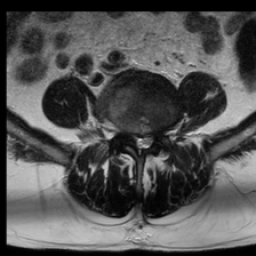CCS_severe_stenosis: (139, 131, 145, 153)
LFS_severe_stenosis: (153, 127, 161, 144)
LLS_stenosis: (147, 130, 153, 153)
RFS_severe_stenosis: (125, 124, 133, 145)
RLS_stenosis: (133, 130, 140, 151)
